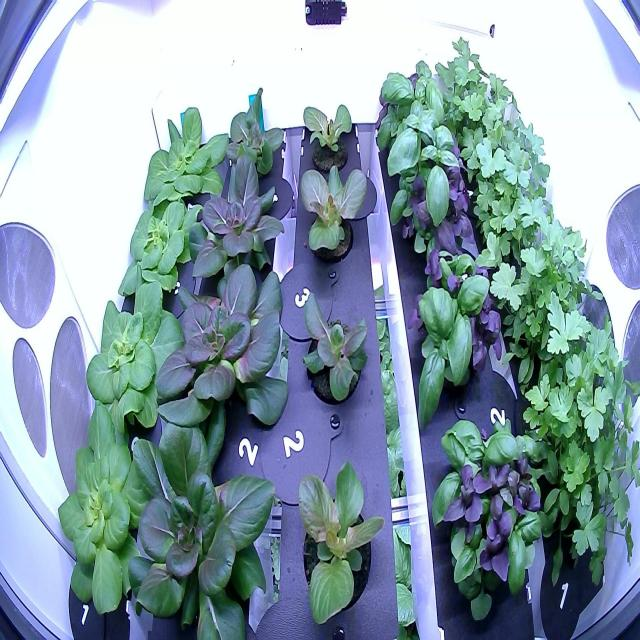pod: (118, 409, 283, 640), (144, 243, 294, 479), (290, 451, 390, 639), (181, 140, 294, 296), (294, 281, 375, 418), (298, 153, 373, 269), (215, 77, 289, 190), (293, 83, 360, 177)
young: (44, 388, 170, 628), (81, 273, 190, 457), (135, 91, 234, 221), (111, 192, 208, 319)
